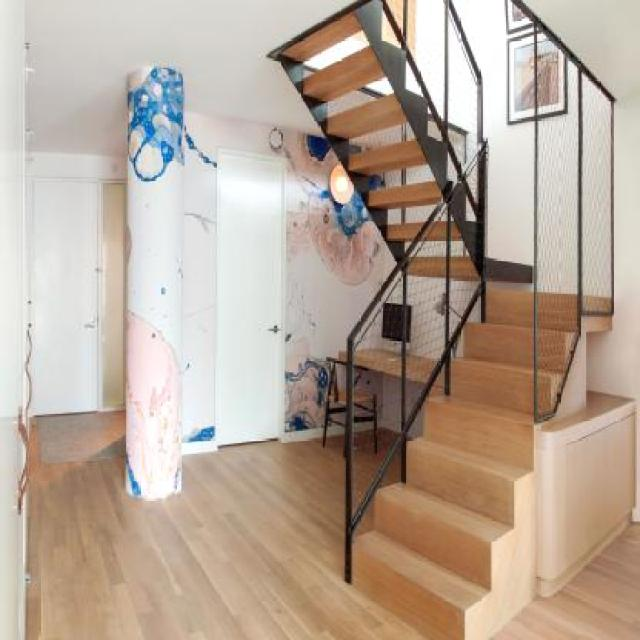stair: (350, 246, 638, 639), (282, 34, 503, 246)
